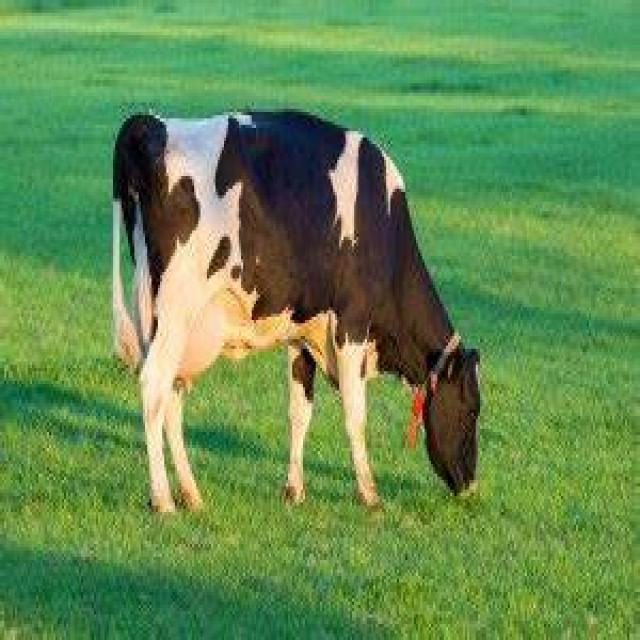cow: (111, 112, 482, 515)
